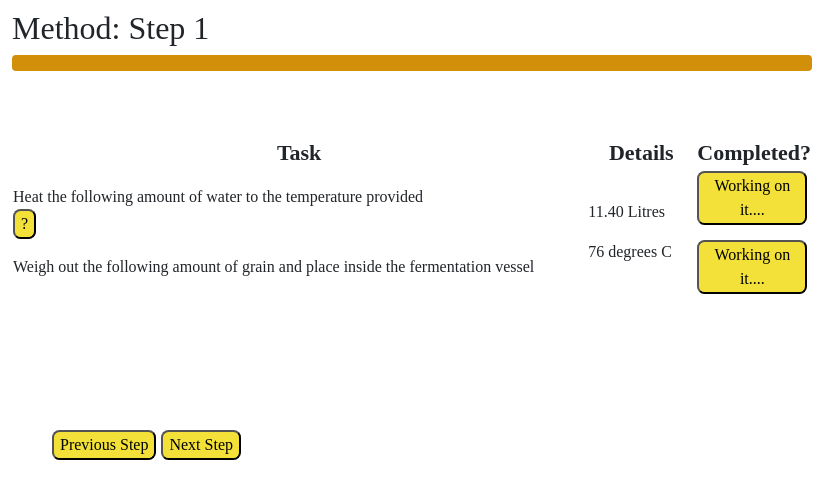
Scenario: should display the next step when the Next Step button is clicked
Click the button "Next Step" at {"x": 201, "y": 445}, box top-left (162, 430), bottom-right (241, 460)
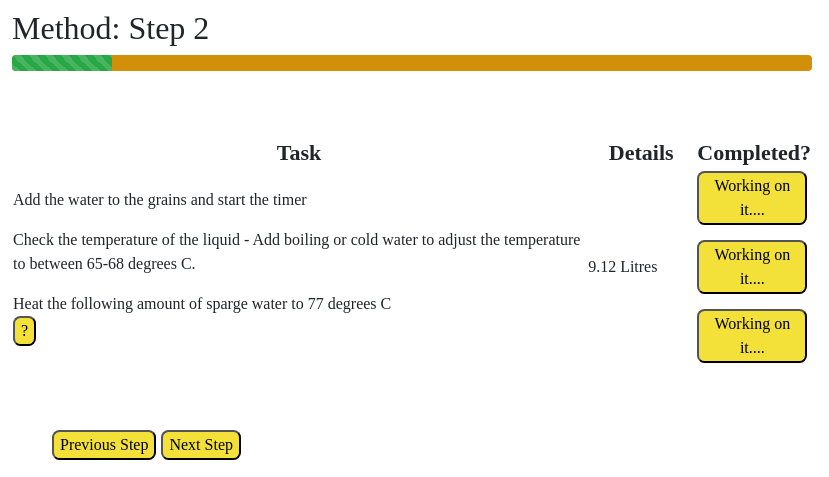
Expected: the text "Add the water to the grains and start the timer" is shown, top-left (13, 191), bottom-right (307, 208)
